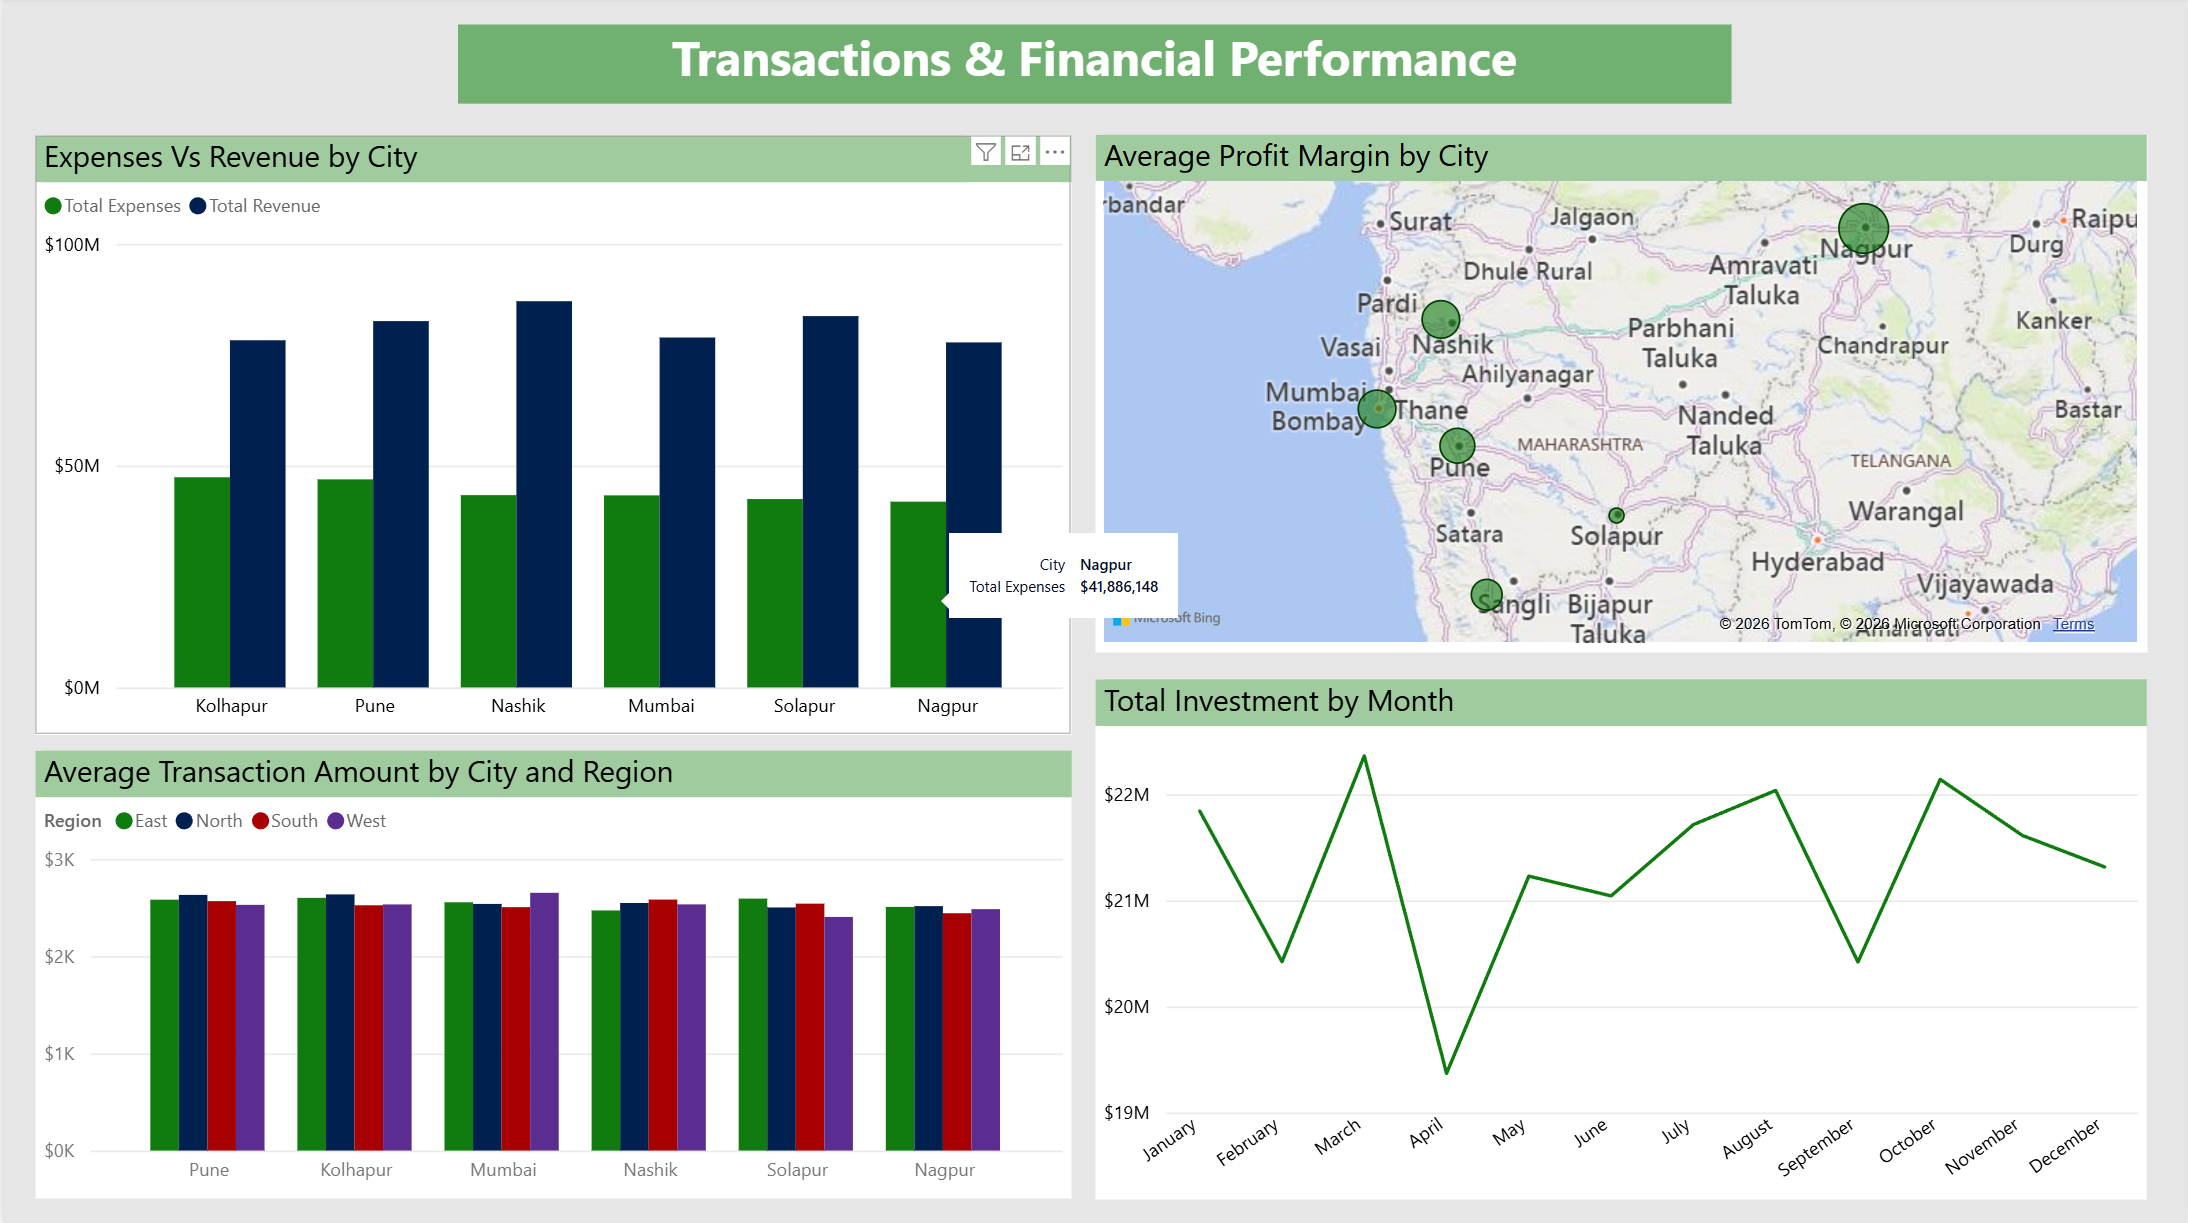

The page's visual inventory and layout, read from the dashboard file:
{"tool":"powerbi","page":{"name":"Page 3","canvas":[1280,720],"ordinal":2},"visuals":[{"type":"clusteredColumnChart","title":"Expenses Vs Revenue by City","fields":{"Category":["bank_data.City"],"Y":["bank_data.Total Expenses","bank_data.Total Revenue"]},"box":[19,81,607,351],"z":0},{"type":"map","fields":{"Category":["bank_data.City"],"Size":["bank_data.Average Profit Margin"]},"box":[640.4,80.5,615.7,302.8],"z":1},{"type":"clusteredColumnChart","fields":{"Category":["bank_data.City"],"Y":["transaction_data.Average Transaction Amount"],"Series":["bank_data.Region"]},"box":[19,442,607,262],"z":2},{"type":"lineChart","fields":{"Category":["transaction_data.Transaction_Date.Variation.Date Hierarchy.Year","transaction_data.Transaction_Date.Variation.Date Hierarchy.Quarter","transaction_data.Transaction_Date.Variation.Date Hierarchy.Month","transaction_data.Transaction_Date.Variation.Date Hierarchy.Day"],"Y":["transaction_data.Total Investment"]},"box":[640,400,616,305],"z":3},{"type":"textbox","title":"Transactions & Financial Performance","box":[267,16,746,46],"z":4}]}

Visuals, with their boxes in screenshot pixels (x1, y1, x2, y2), scaled from the page's 1280x720 canvas onto the 2188x1223 screenshot:
"Expenses Vs Revenue by City" clusteredColumnChart: left=32, top=138, right=1070, bottom=734
map - bank_data.City x bank_data.Average Profit Margin: left=1095, top=137, right=2147, bottom=651
clusteredColumnChart - bank_data.City x transaction_data.Average Transaction Amount: left=32, top=751, right=1070, bottom=1196
lineChart - transaction_data.Transaction_Date.Variation.Date Hierarchy.Year x transaction_data.Transaction_Date.Variation.Date Hierarchy.Quarter: left=1094, top=679, right=2147, bottom=1198
"Transactions & Financial Performance" textbox: left=456, top=27, right=1732, bottom=105
